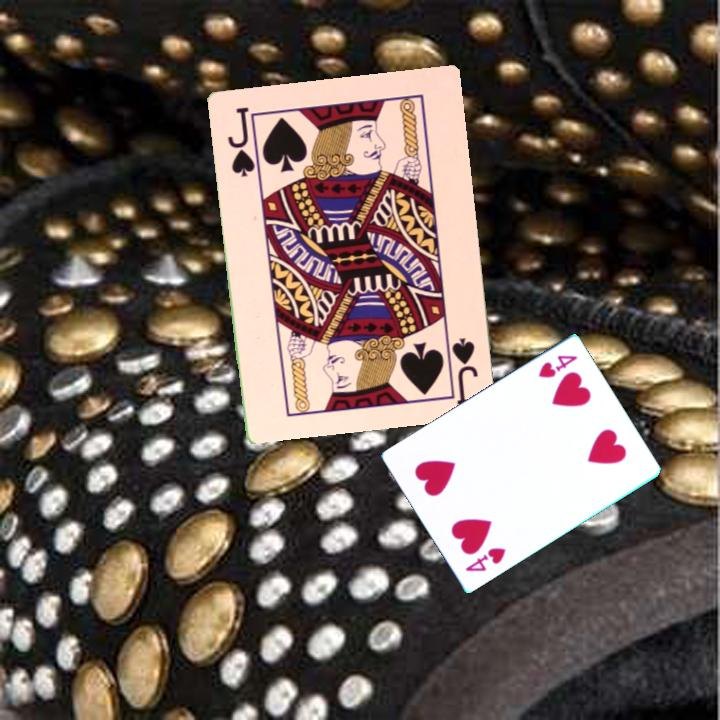4h: (461, 544, 509, 575), (535, 352, 580, 381)
Js: (223, 103, 258, 180), (448, 334, 480, 408)
